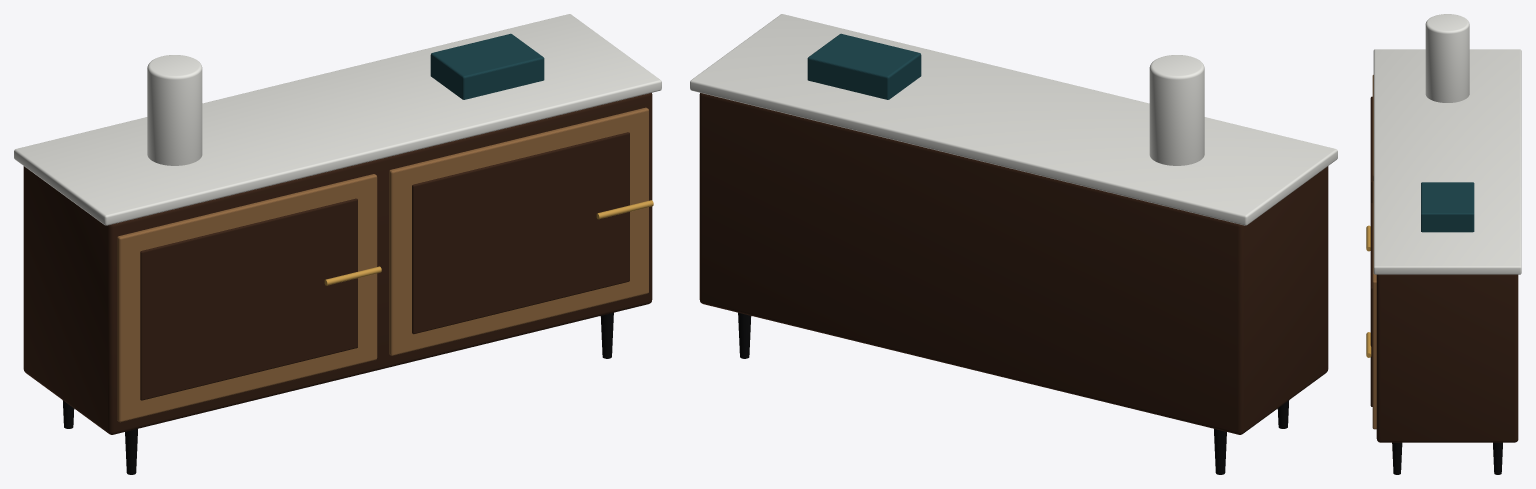
Rendered from modern_sideboard.obj.
3 renders of one model, left to right at view 1: azimuth 30°, elevation 25°; view 2: azimuth 150°, elevation 25°; view 3: azimuth 270°, elevation 25°, orthographic. The views are drawn at different scales.
Visible parts, largest first — view 1: top, body, door_panel, door_panel.001, door, door.001, vase_a, book_stack; view 2: body, top, vase_a, book_stack; view 3: top, body, vase_a, book_stack, door.001, door_panel.001, door_panel, leg.002, leg.003, door.
Part boxes in pixels (x1,y1,x2,y2): top: [14, 14, 661, 225]; body: [23, 93, 652, 434]; door_panel: [140, 198, 357, 400]; door_panel.001: [412, 132, 629, 334]; door: [117, 174, 377, 422]; door.001: [389, 107, 648, 355]; vase_a: [147, 55, 202, 165]; book_stack: [430, 33, 544, 99]; body: [699, 93, 1328, 434]; top: [690, 14, 1337, 225]; vase_a: [1149, 55, 1204, 165]; book_stack: [807, 33, 921, 99]; top: [1373, 49, 1521, 274]; body: [1376, 274, 1518, 442]; vase_a: [1425, 14, 1469, 102]; book_stack: [1421, 182, 1474, 232]; door.001: [1372, 181, 1376, 429]; door_panel.001: [1370, 203, 1372, 406]; door_panel: [1370, 96, 1372, 203]; leg.002: [1392, 442, 1402, 474]; leg.003: [1493, 442, 1502, 474]; door: [1372, 75, 1373, 181].
Bounding box in the file's own units: 1.64 × 1.03 × 0.493.
